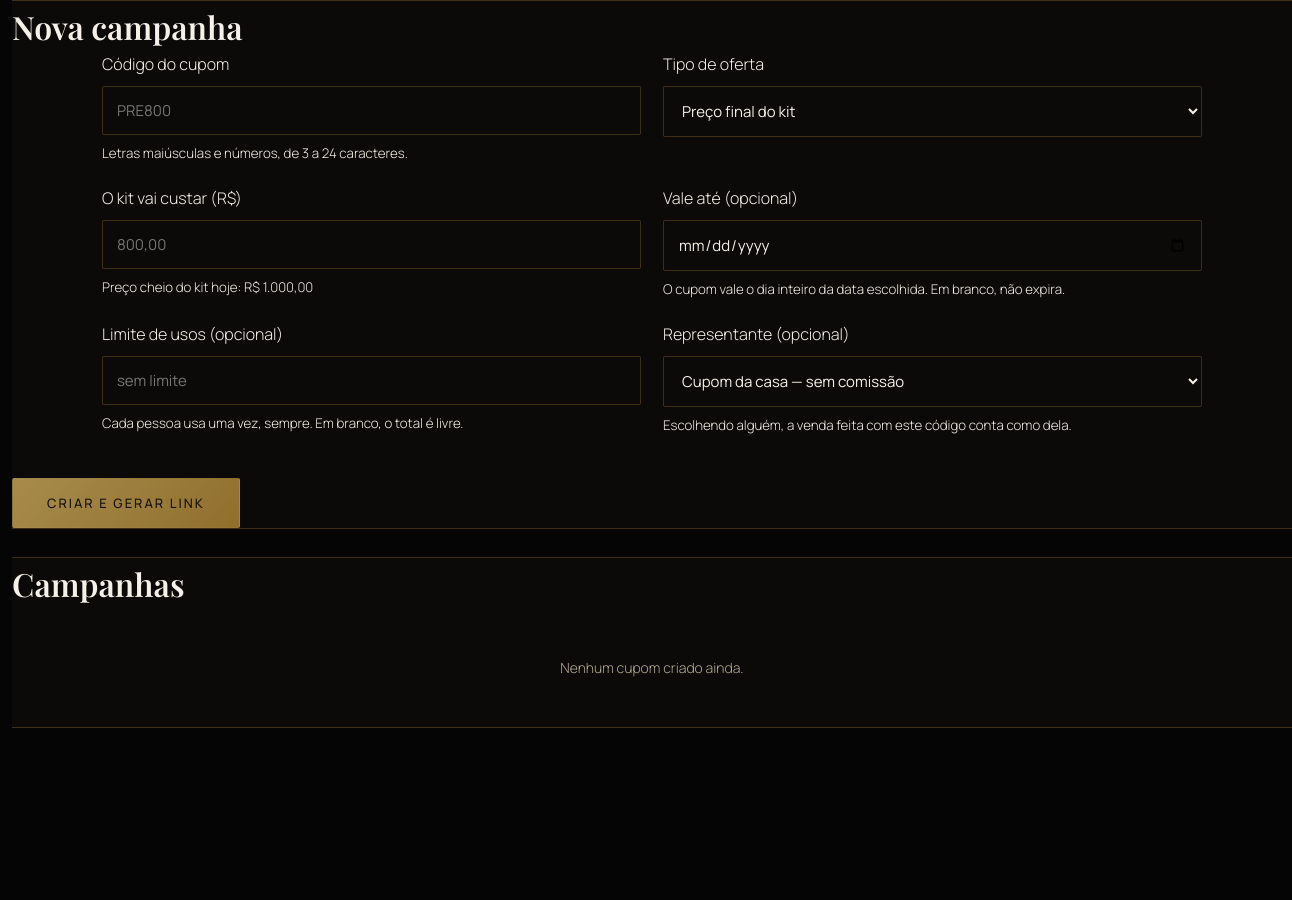
Test: CuponsAdmin › confere o preco final enquanto a pessoa digita
Step 1. Type "800" into the field labelled "O kit vai custar (R$) Preço cheio do kit hoje: R$ 1.000,00" → (372, 244), box 102,220 -> 641,269
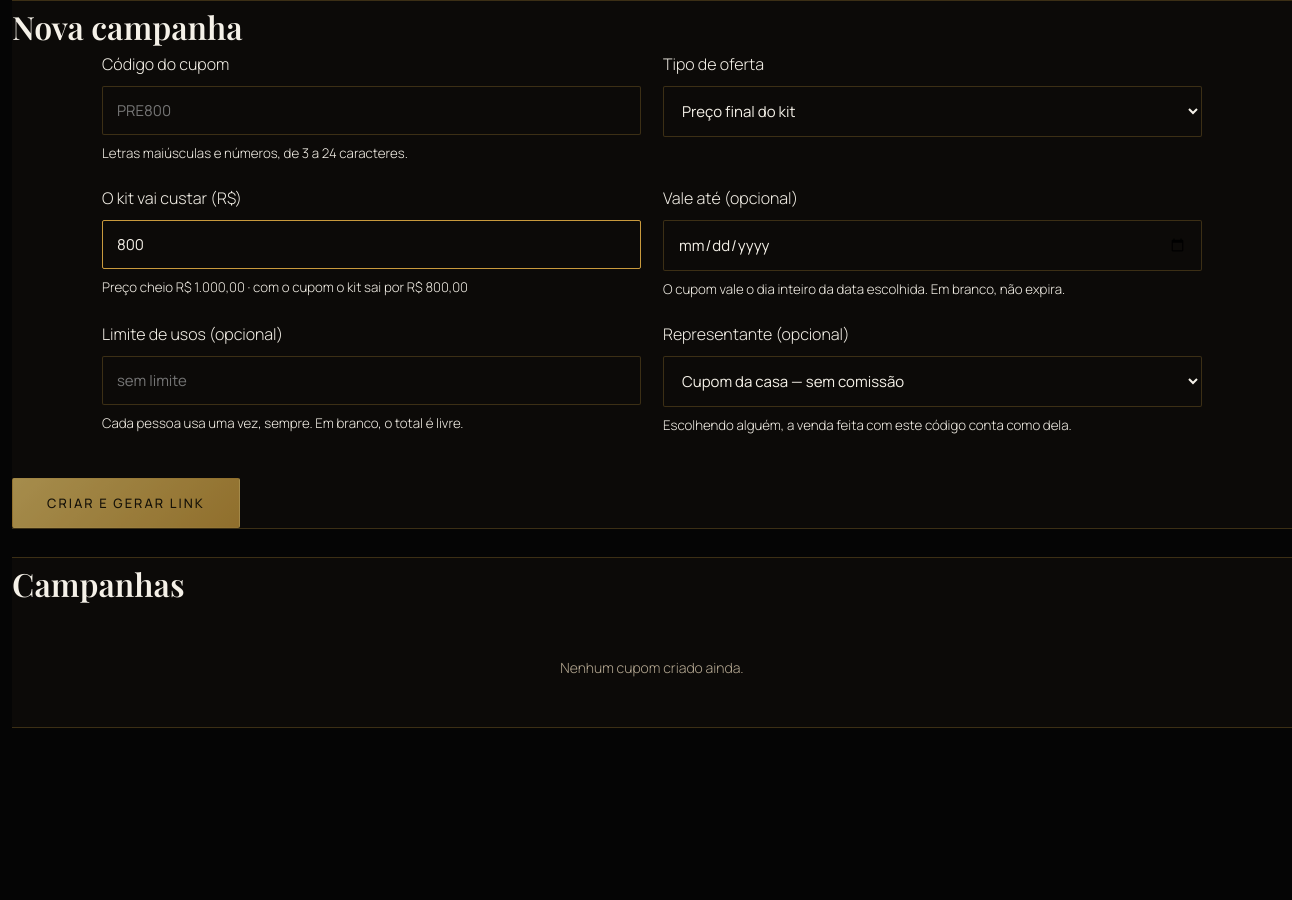
Result: the text "o kit sai por R$ 800,00" is shown at 102,278 -> 468,296
